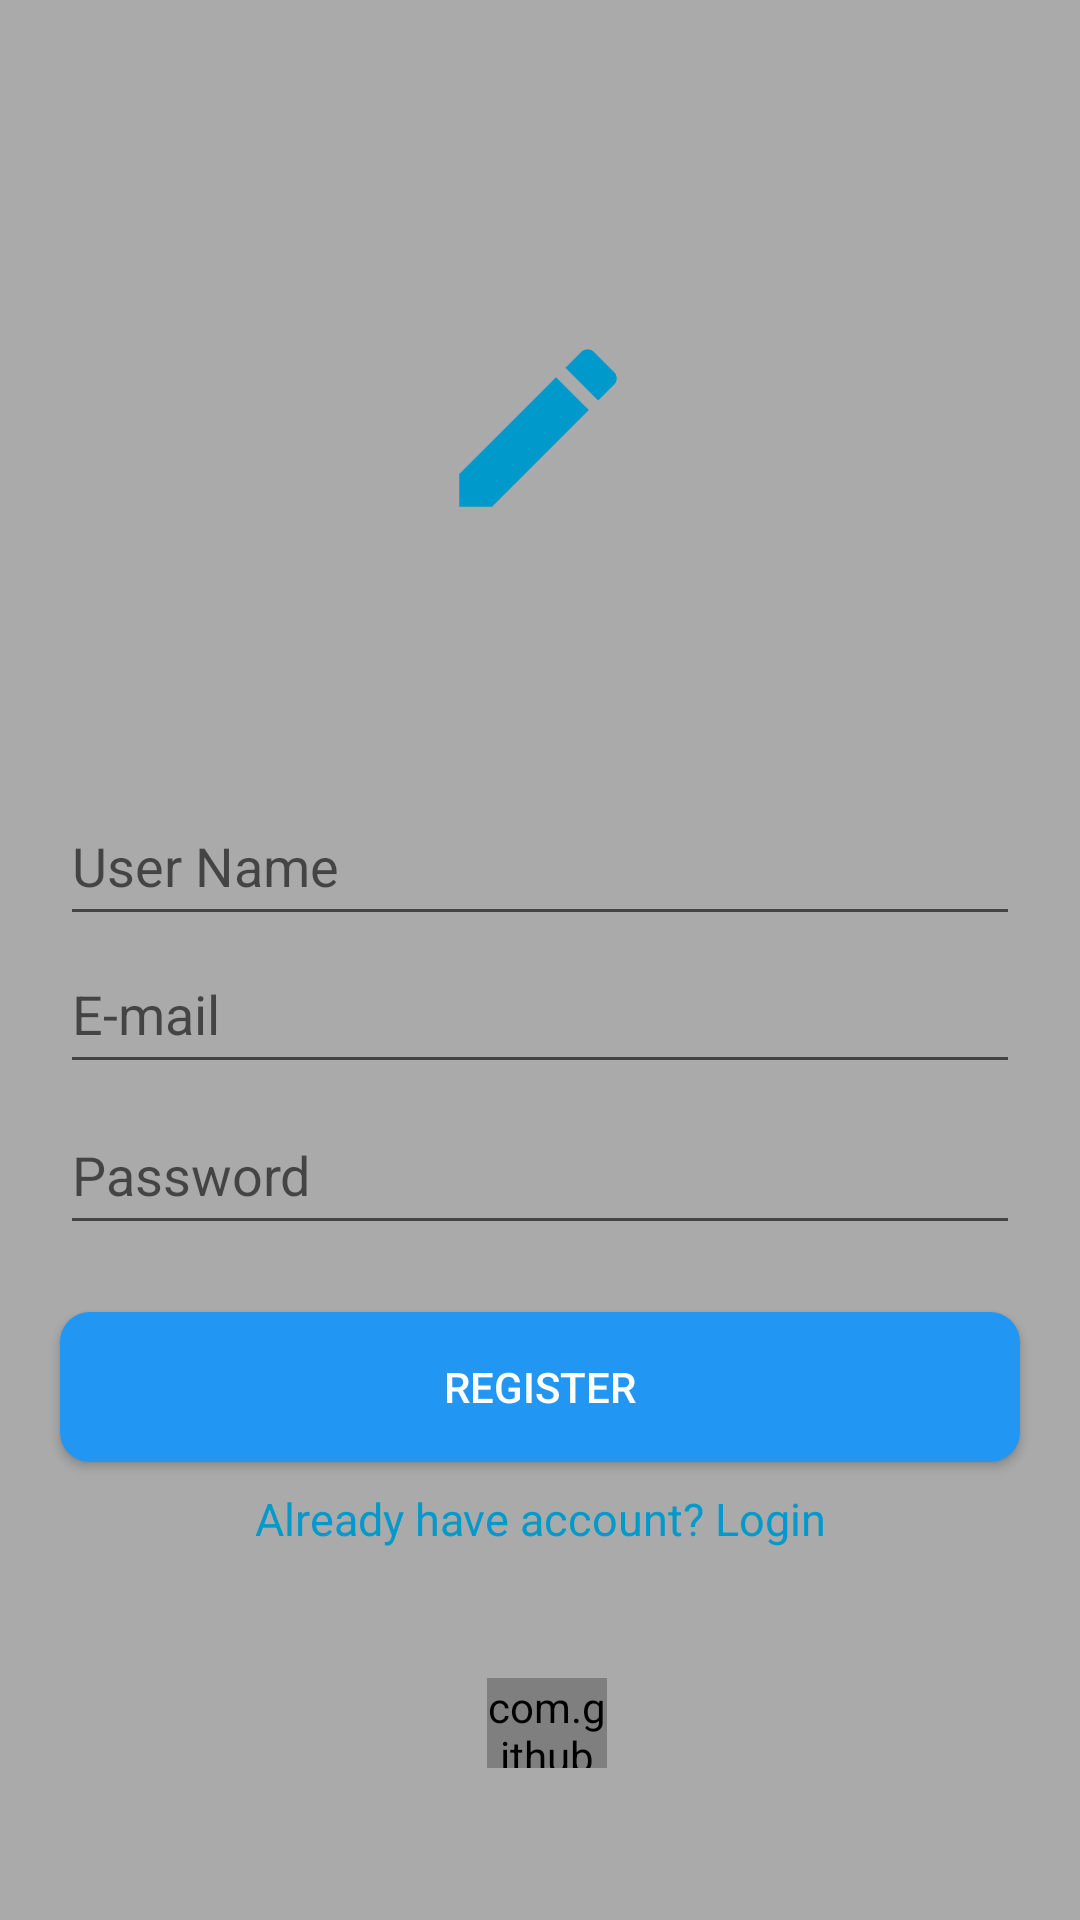

Screen size 1080px×1920px. Icon name, then its box in pixels as (x1=x1, y1=y1, x2=x2, y2=y2):
edit: (x1=459, y1=349, x2=617, y2=507)
